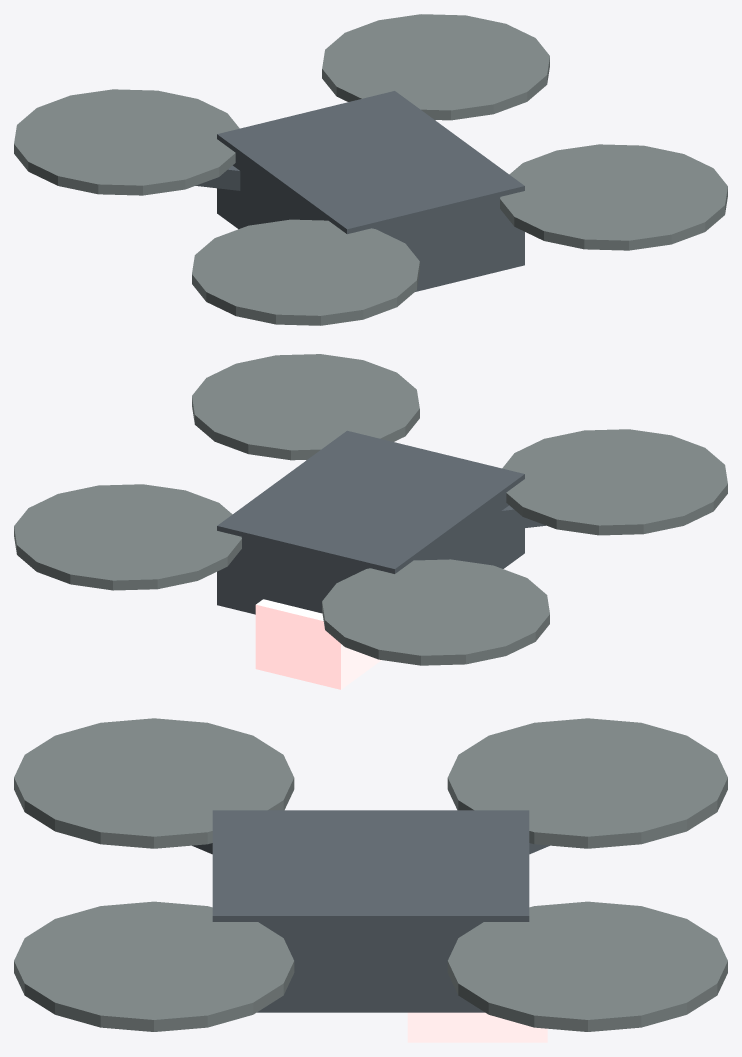
Rendered from drone.glb.
3 renders of one model, top to bottom at view 1: azimuth 30°, elevation 25°; view 2: azimuth 150°, elevation 25°; view 3: azimuth 270°, elevation 25°, orthographic. The views are drawn at different scales.
Parts seen in each view (by area): view 1: Core, Rotor_-0.65_-0.65, Rotor_0.65_-0.65, Rotor_-0.65_0.65, Rotor_0.65_0.65, Arm_-0.65_0.65; view 2: Core, Rotor_-0.65_0.65, Rotor_0.65_0.65, Rotor_-0.65_-0.65, Rotor_0.65_-0.65, SensorPod, Arm_-0.65_-0.65; view 3: Core, Rotor_0.65_0.65, Rotor_0.65_-0.65, Rotor_-0.65_0.65, Rotor_-0.65_-0.65, SensorPod.
Boxes of the visible parts, x1=… form: Core: x1=217, y1=91, x2=524, y2=291; Rotor_-0.65_-0.65: x1=192, y1=219, x2=419, y2=325; Rotor_0.65_-0.65: x1=500, y1=144, x2=727, y2=250; Rotor_-0.65_0.65: x1=14, y1=89, x2=239, y2=195; Rotor_0.65_0.65: x1=322, y1=14, x2=549, y2=120; Arm_-0.65_0.65: x1=195, y1=165, x2=240, y2=190; Core: x1=217, y1=430, x2=524, y2=614; Rotor_-0.65_0.65: x1=322, y1=559, x2=549, y2=665; Rotor_0.65_0.65: x1=14, y1=484, x2=241, y2=590; Rotor_-0.65_-0.65: x1=502, y1=429, x2=727, y2=535; Rotor_0.65_-0.65: x1=192, y1=354, x2=419, y2=460; SensorPod: x1=255, y1=599, x2=381, y2=689; Arm_-0.65_-0.65: x1=501, y1=505, x2=545, y2=530; Core: x1=212, y1=810, x2=529, y2=1012; Rotor_0.65_0.65: x1=447, y1=901, x2=727, y2=1031; Rotor_0.65_-0.65: x1=14, y1=901, x2=294, y2=1031; Rotor_-0.65_0.65: x1=447, y1=718, x2=727, y2=848; Rotor_-0.65_-0.65: x1=14, y1=718, x2=294, y2=848; SensorPod: x1=407, y1=1012, x2=547, y2=1042.
Size of the model in its own units: 2.14 by 0.51 by 2.14.
